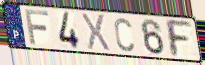4: (57, 10, 81, 51)
6: (140, 18, 166, 56)
C: (113, 17, 136, 53)
F: (163, 18, 194, 60), (23, 9, 51, 46)
X: (80, 12, 111, 53)
